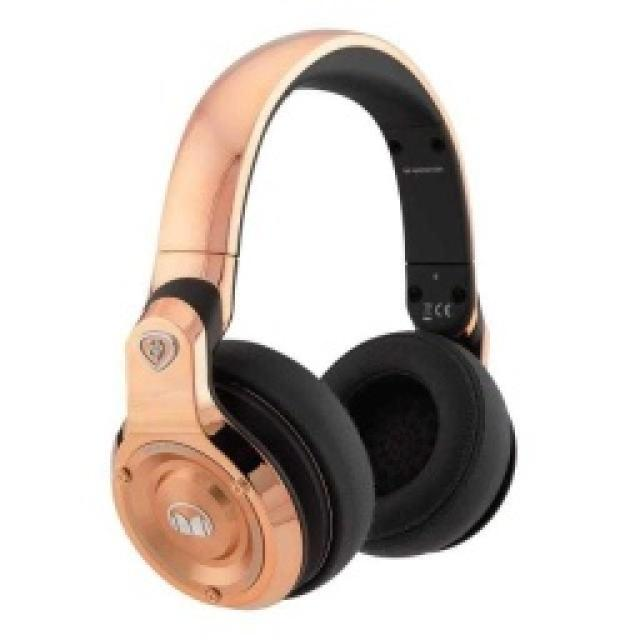headphones: (108, 25, 518, 610)
